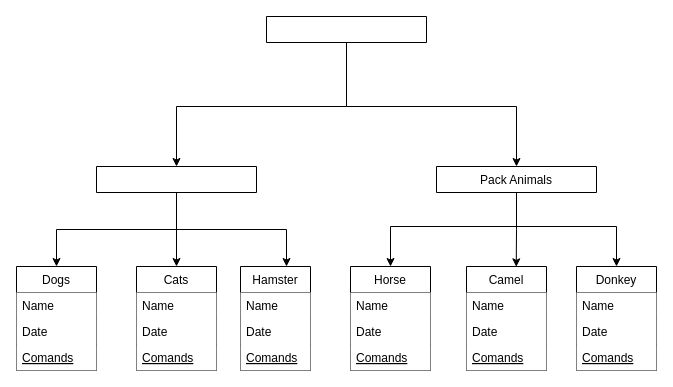
Image size: 673x387. Some labels were removed from this diagram. The shapes that lost their labels are listed below. From the top down, each one's box as (x1, y1, x2, y2) in pixels, then its label:
(266, 16, 426, 42): Animal
(96, 166, 256, 192): Pets
